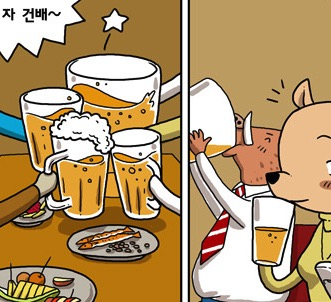beer: (42, 109, 113, 223), (108, 124, 165, 221), (247, 192, 299, 267)
cup: (44, 107, 113, 222), (105, 124, 163, 220), (247, 192, 297, 269)
